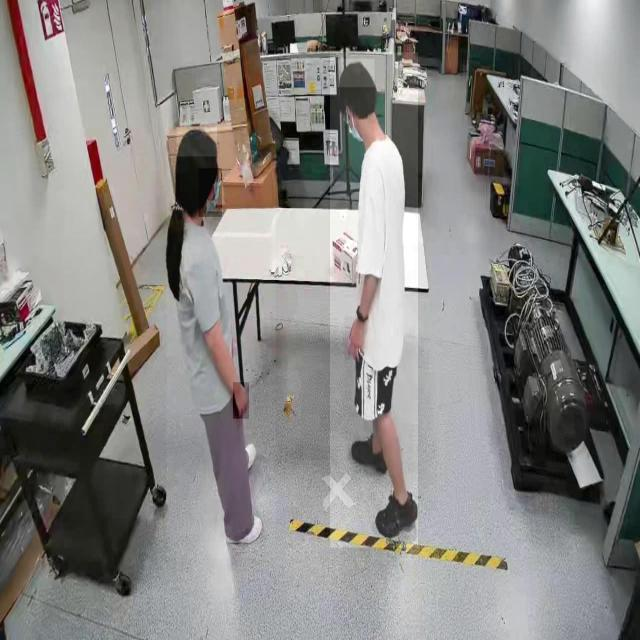face_mask: (198, 168, 222, 217)
hand_noglove: (344, 316, 364, 361), (233, 382, 249, 420)
head_nohelmet: (176, 127, 218, 157), (337, 59, 375, 88)
person: (166, 119, 276, 559), (330, 52, 418, 548)
shoes: (376, 474, 418, 547), (220, 508, 266, 547), (350, 434, 391, 474), (224, 430, 256, 477)
